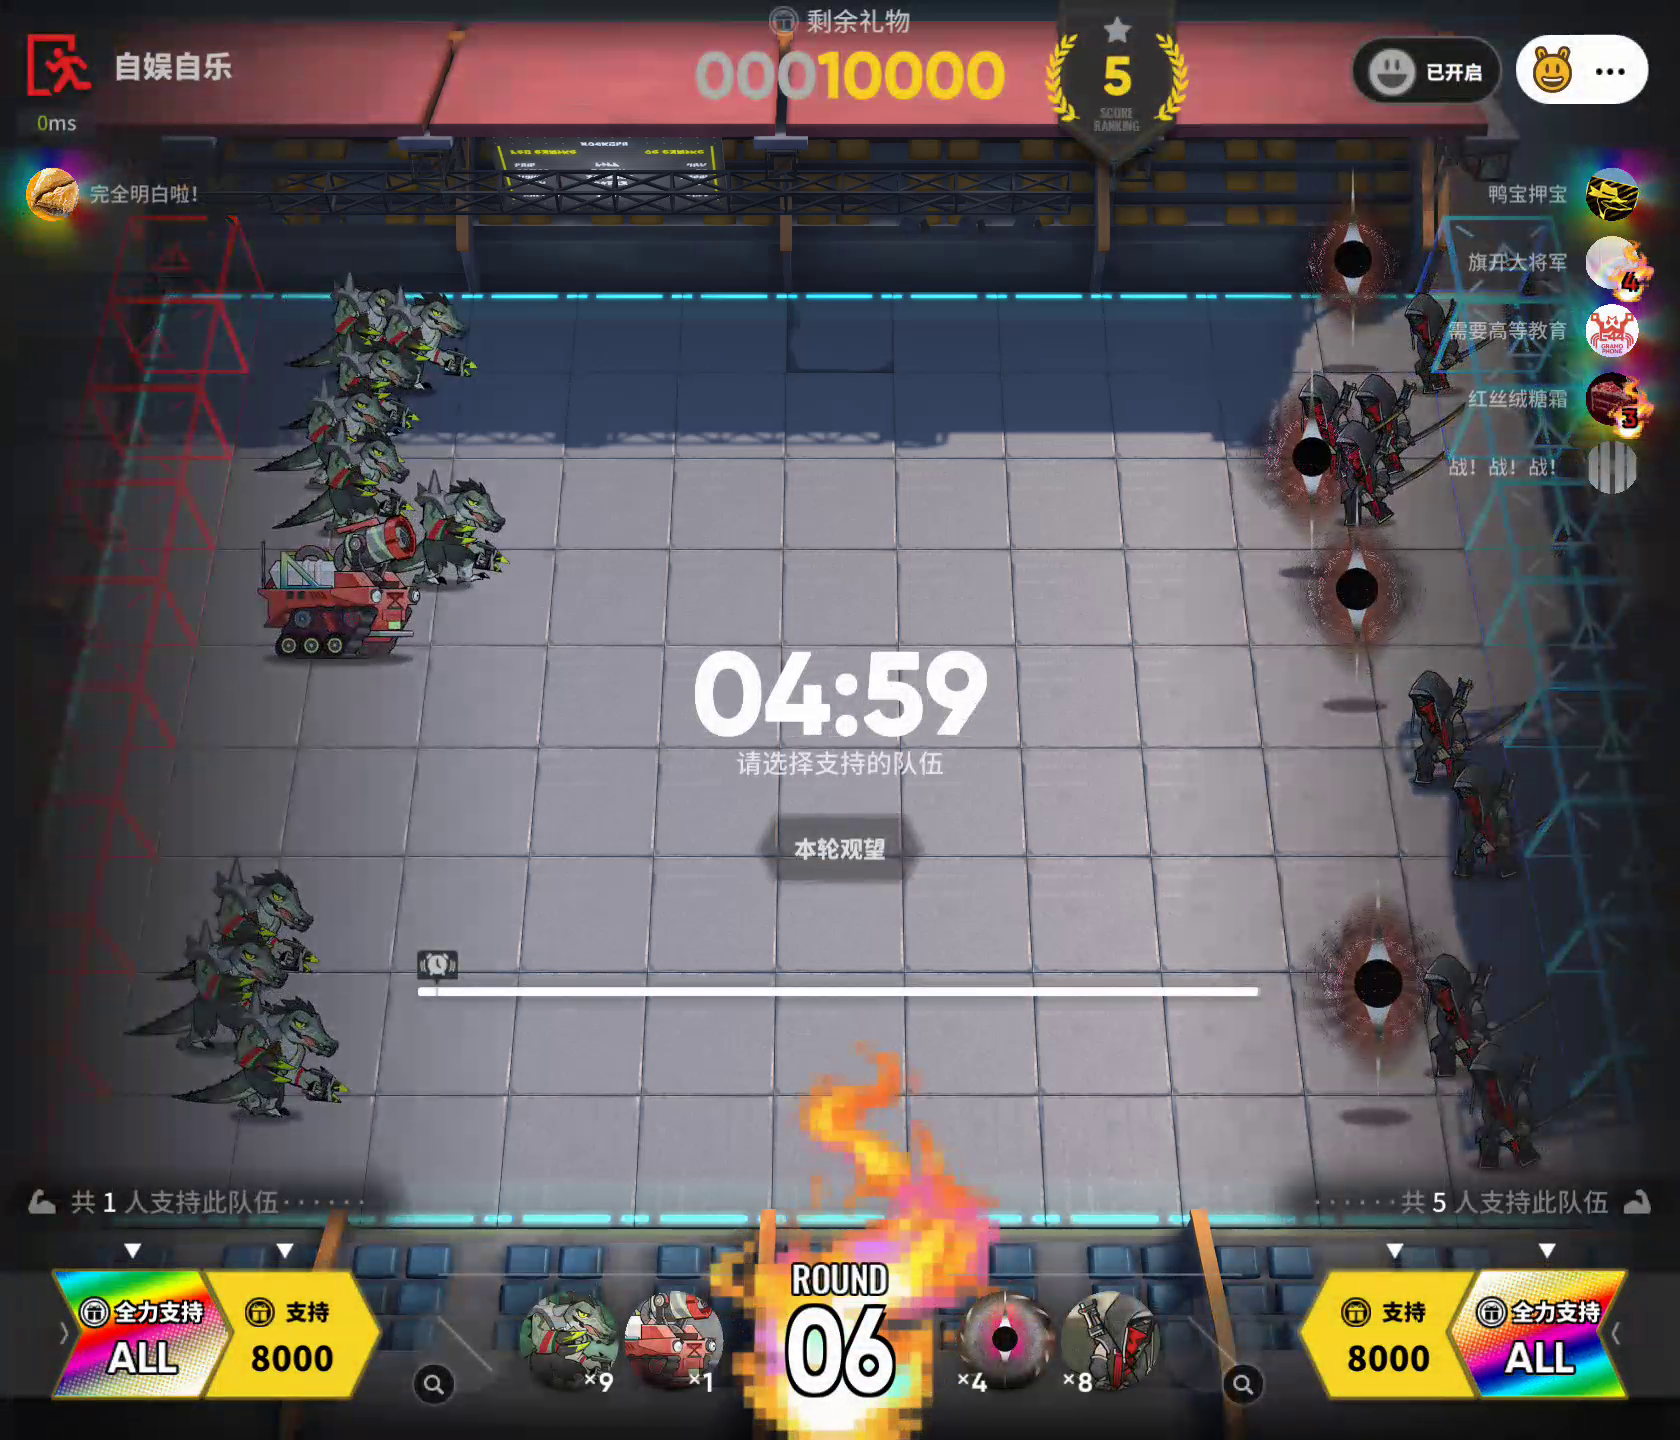“火苗与软钢”: (1420, 950, 1560, 1083), (1456, 1036, 1587, 1174), (1397, 659, 1533, 786), (1443, 760, 1554, 883), (1400, 286, 1517, 394), (1329, 420, 1454, 520), (1349, 370, 1479, 461), (1060, 1289, 1169, 1396), (1293, 369, 1354, 479)
“门”: (1309, 881, 1434, 1109), (1309, 500, 1413, 716), (1267, 349, 1353, 546), (1320, 169, 1401, 361), (951, 1290, 1057, 1399)
窃笑鳄鱼: (161, 989, 351, 1123), (121, 917, 300, 1051), (159, 851, 324, 989), (240, 379, 404, 486), (373, 466, 514, 584), (263, 429, 417, 534), (361, 286, 484, 400), (277, 340, 426, 431), (513, 1284, 620, 1393), (286, 276, 407, 369)
超级洗地机: (251, 509, 430, 669), (620, 1284, 729, 1394)
